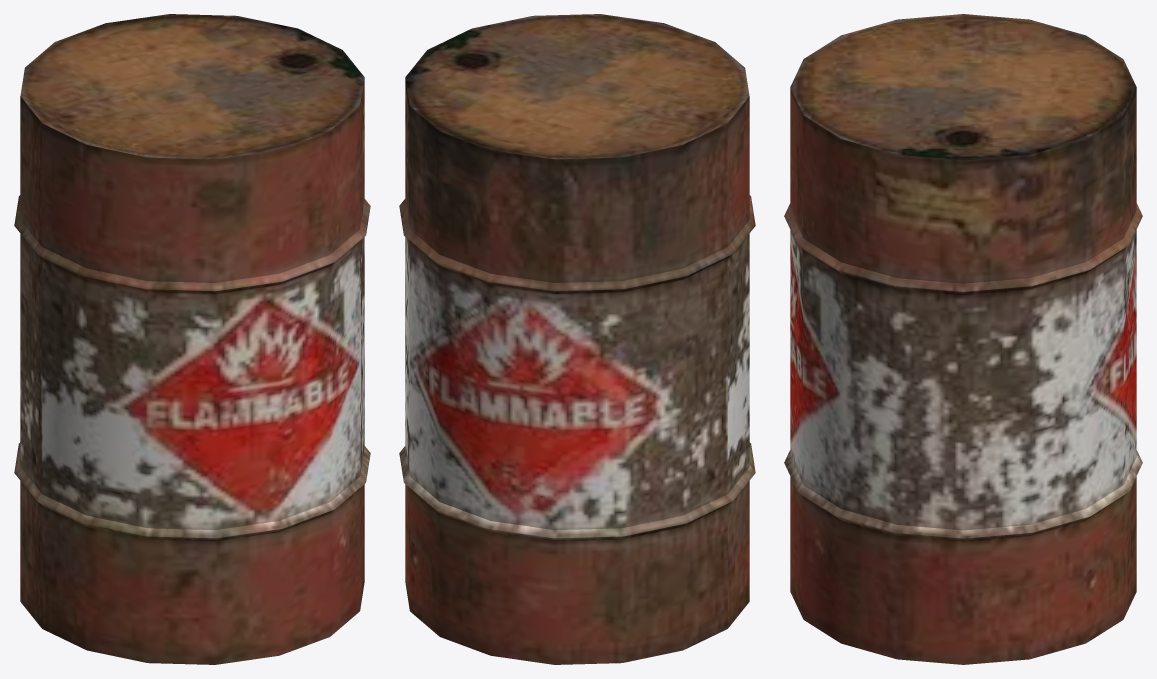
File: oildrum001_explosive.glb
3 views of the same model, side by side, from view 1: azimuth 30°, elevation 25°; view 2: azimuth 150°, elevation 25°; view 3: azimuth 270°, elevation 25° (orthographic).
Visible parts, largest first — view 1: 0_Oil_Drum001h; view 2: 0_Oil_Drum001h; view 3: 0_Oil_Drum001h.
Part boxes in pixels (left/top/right/bottom): 0_Oil_Drum001h: left=14, top=14, right=370, bottom=664; 0_Oil_Drum001h: left=399, top=14, right=755, bottom=664; 0_Oil_Drum001h: left=784, top=14, right=1142, bottom=664.
Size of the model in its own units: 0.7366 by 1.14 by 0.7366.
1 material, 1 textured.
